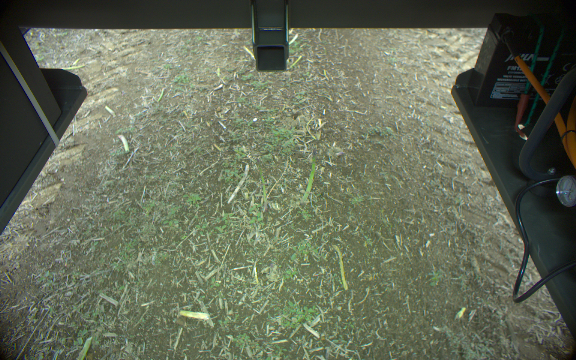aspa: (299, 148, 319, 205), (254, 158, 269, 213), (330, 243, 347, 289), (76, 335, 95, 360), (114, 132, 128, 152)
